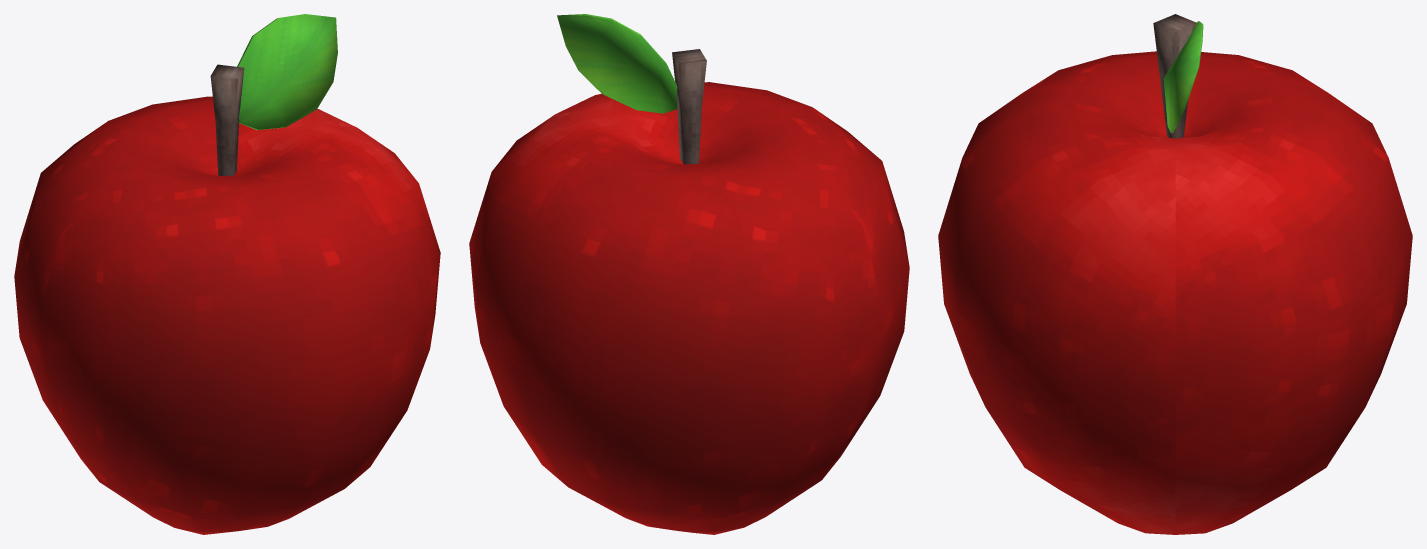
The model's file is FoolsApple.fbx.
3 renders of one model, left to right at view 1: azimuth 30°, elevation 25°; view 2: azimuth 150°, elevation 25°; view 3: azimuth 270°, elevation 25°, orthographic. The views are drawn at different scales.
Visible parts, largest first — view 1: FoolsApple; view 2: FoolsApple; view 3: FoolsApple.
Boxes of the visible parts, bbox=[...] form: FoolsApple: bbox=[14, 14, 440, 534]; FoolsApple: bbox=[469, 14, 909, 534]; FoolsApple: bbox=[938, 14, 1412, 534].
Size of the model in its own units: 275 by 335 by 275.
Materials: 1 (1 with a texture image).
